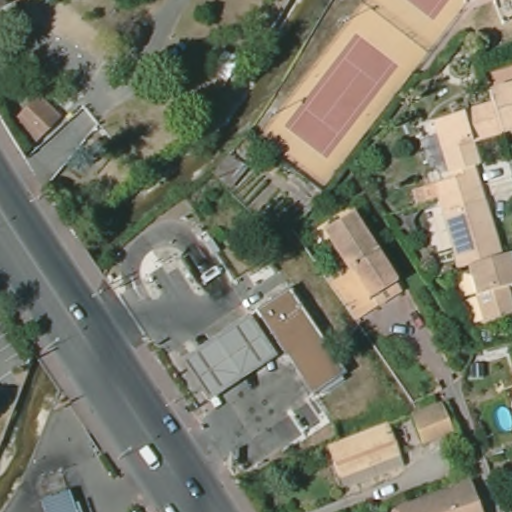pool: (495, 402, 512, 438)
